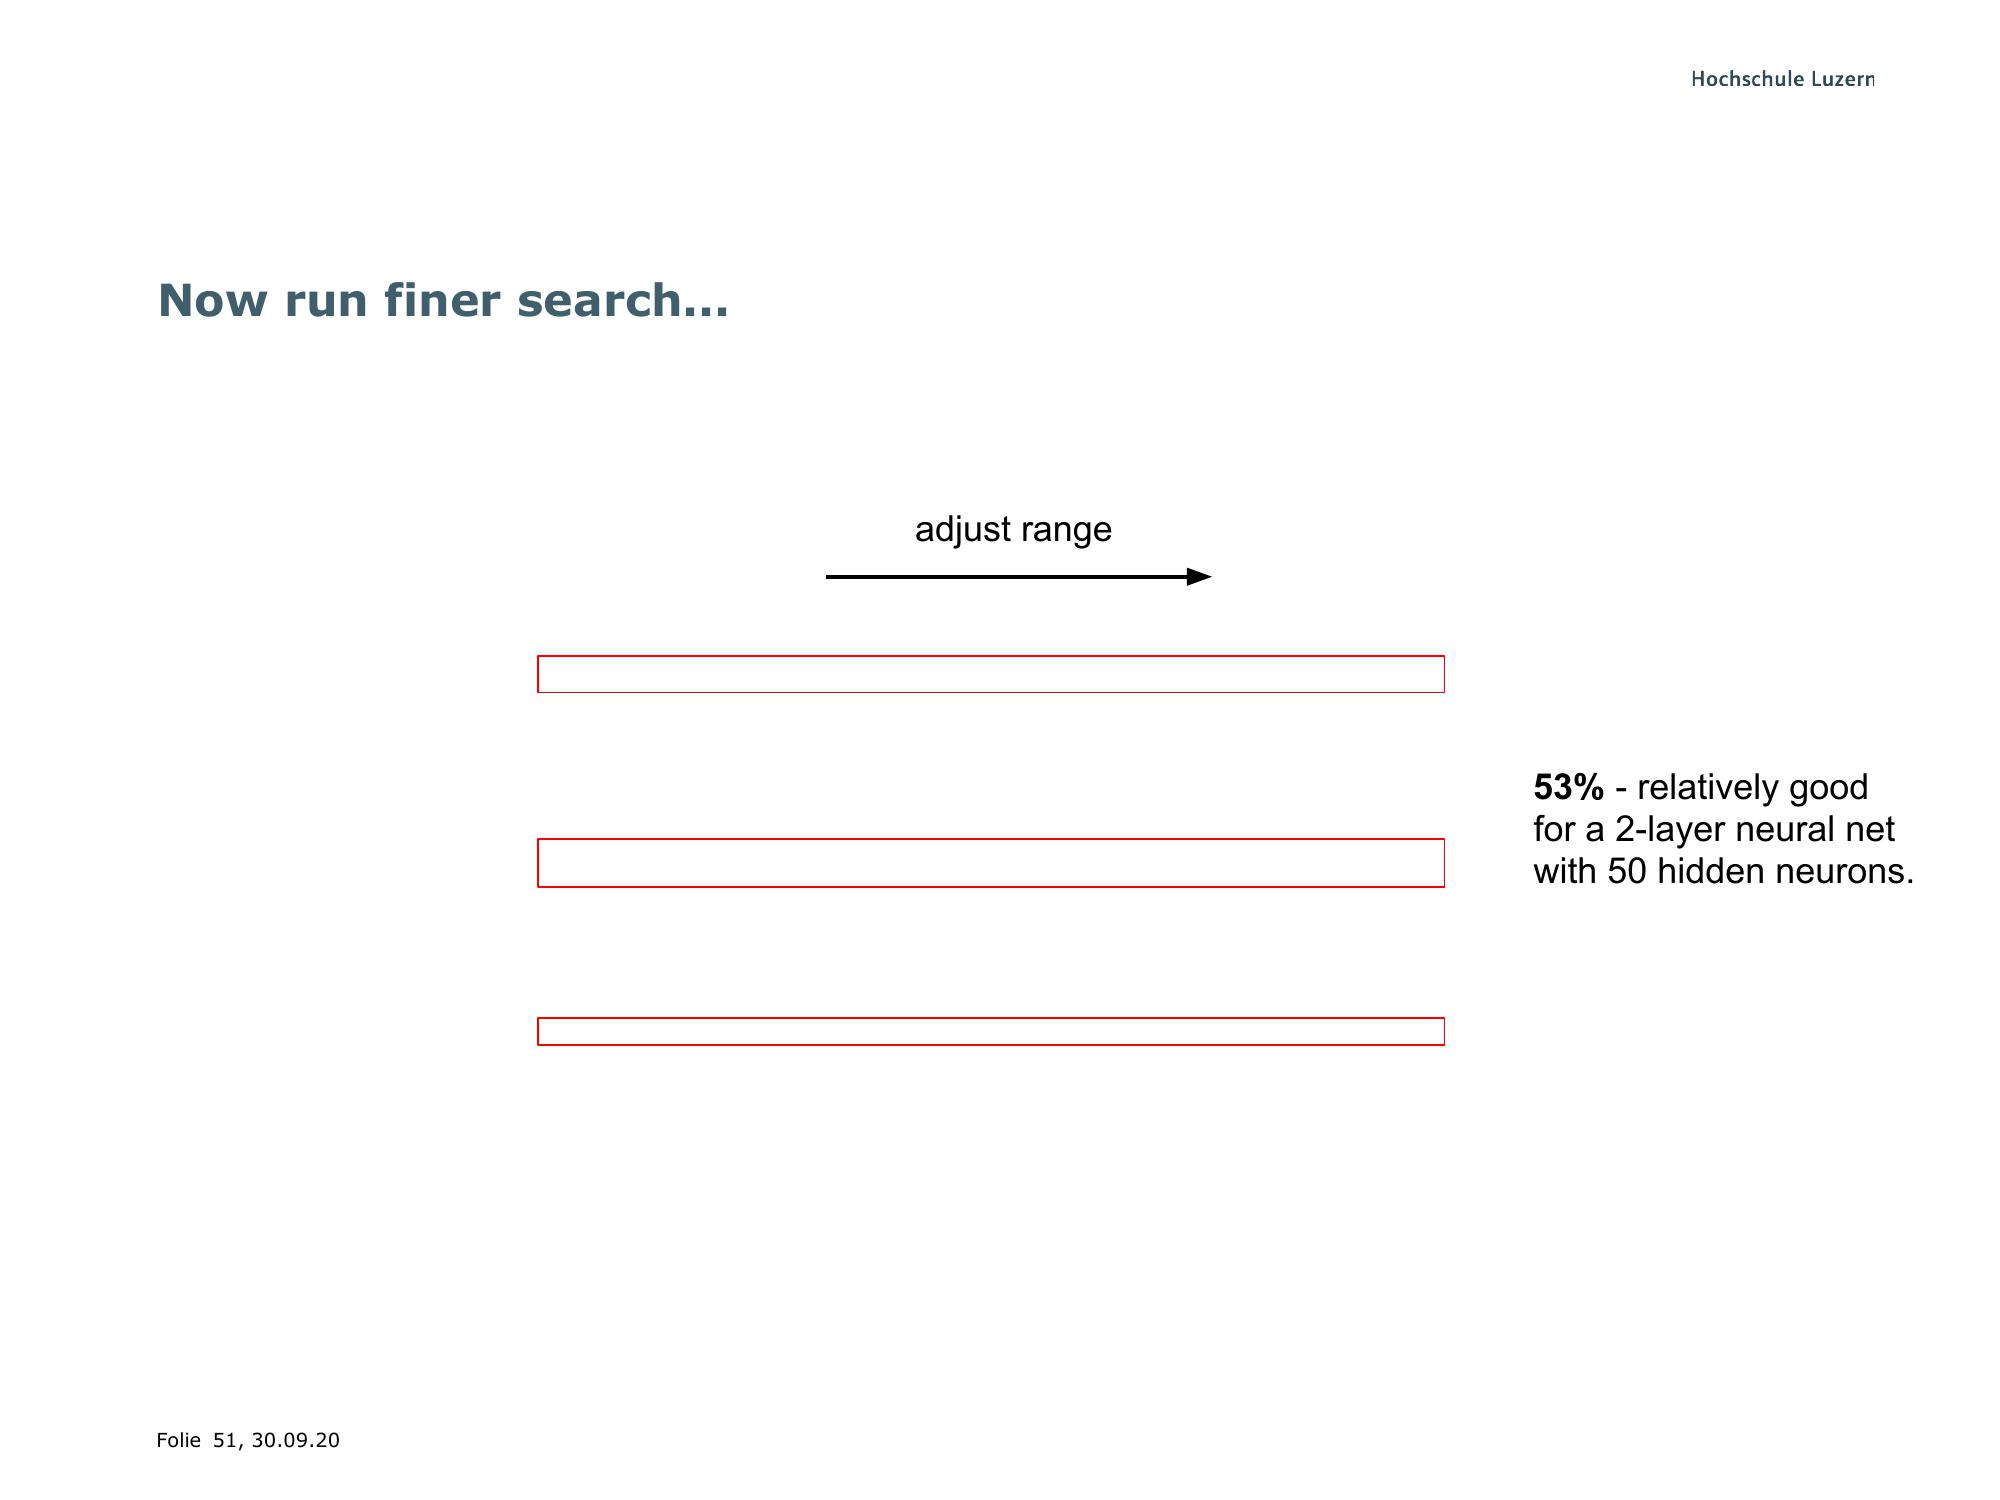Title: (153, 269, 753, 339)
